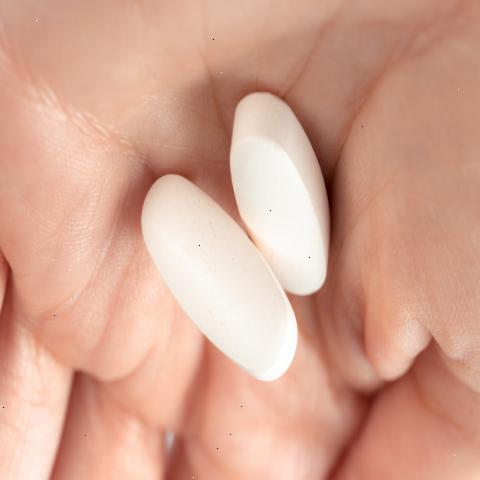Pill: (95, 169, 304, 399), (227, 74, 348, 298)
